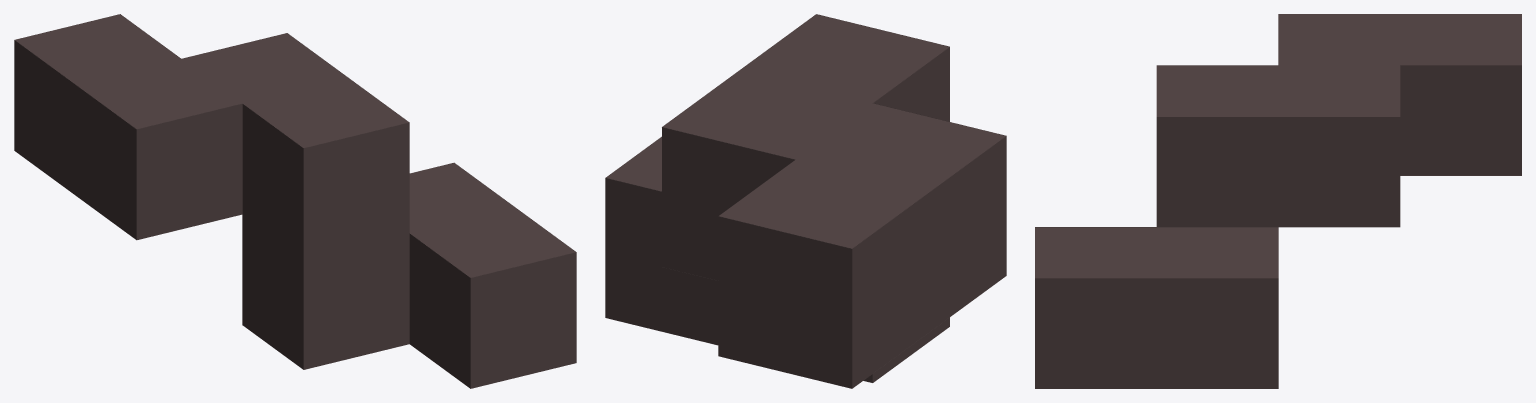
The model's file is VampireBatWing.obj.
3 renders of one model, left to right at view 1: azimuth 30°, elevation 25°; view 2: azimuth 150°, elevation 25°; view 3: azimuth 270°, elevation 25°, orthographic. The views are drawn at different scales.
Visible parts, largest first — view 1: VampireBatWing; view 2: VampireBatWing; view 3: VampireBatWing.
Boxes of the visible parts, box(x1,y1,x2,y2) form: VampireBatWing: box(14, 14, 576, 388); VampireBatWing: box(605, 14, 1006, 388); VampireBatWing: box(1035, 14, 1521, 388).
Bounding box in the file's own units: 3 × 2 × 4.
Materials: 1 (1 with a texture image).
